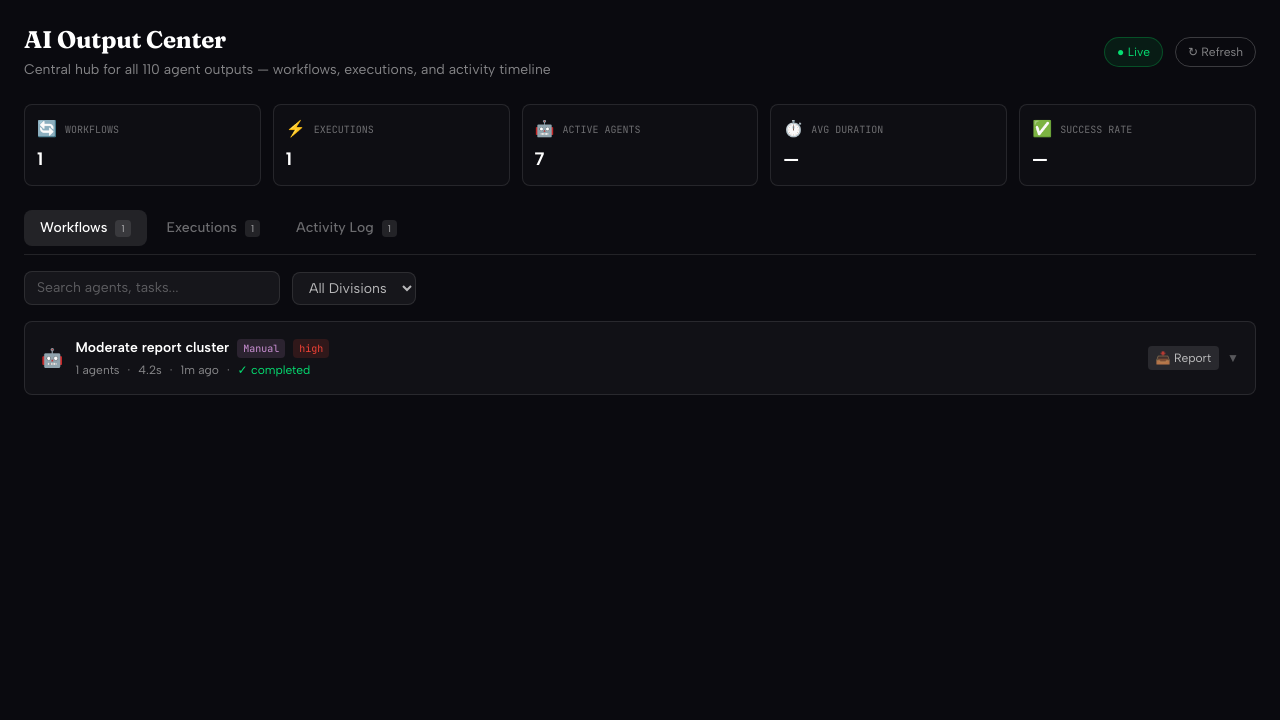
Test: AgentOutputPage (AI Output Center) › marks failed actions with a warning badge
Step 1. Click the text "Moderate report cluster" → (152, 348), box [76,338,229,358]
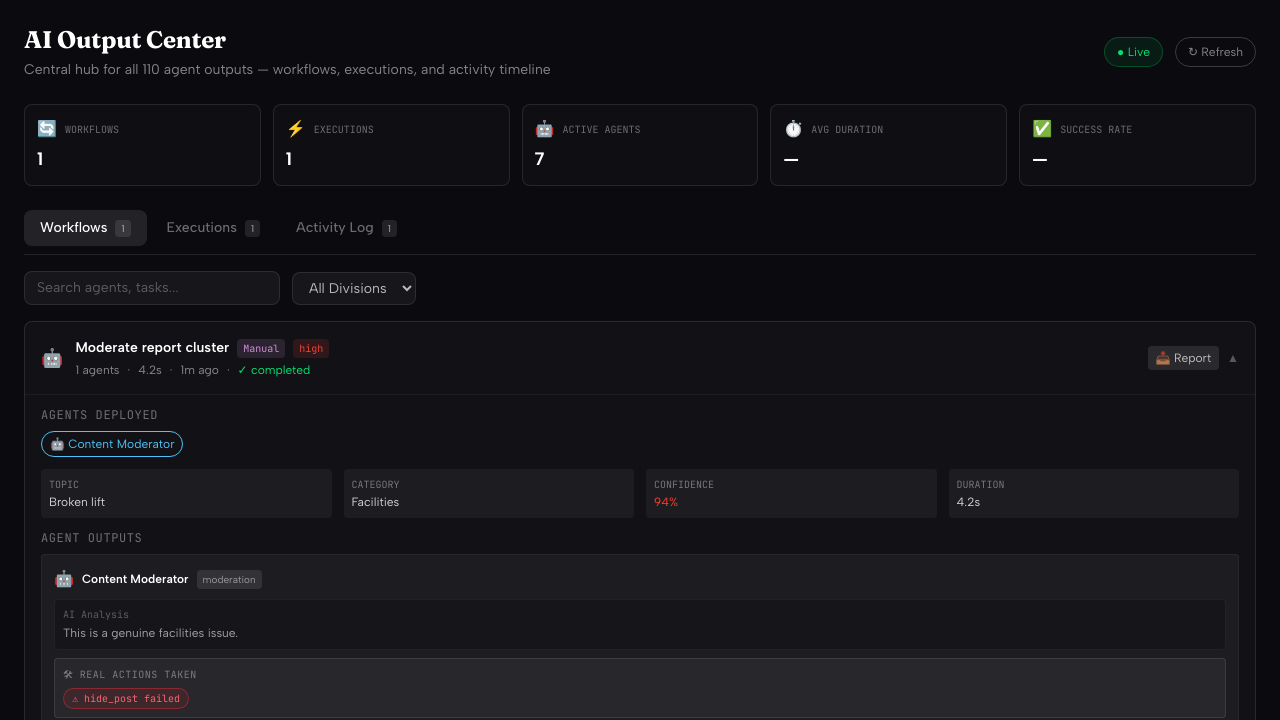
Expected: the text "⚠ hide_post failed" is shown, [63,688,189,709]
